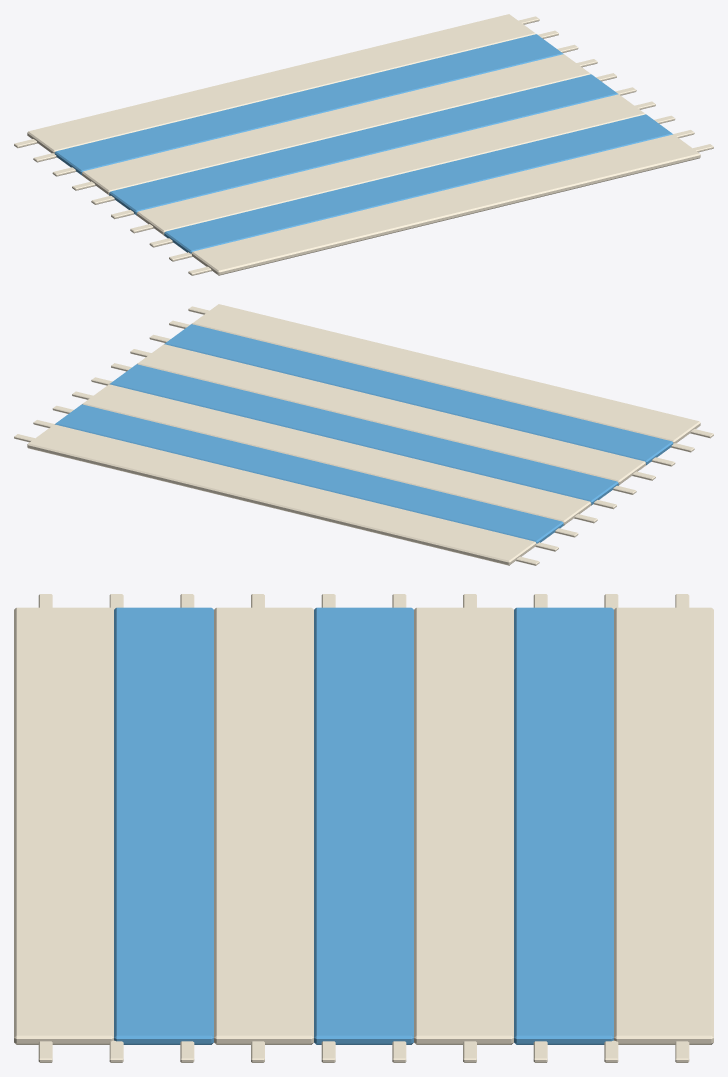
The model's file is striped_rug.glb.
3 views of the same model, one above another, from view 1: azimuth 30°, elevation 25°; view 2: azimuth 150°, elevation 25°; view 3: azimuth 270°, elevation 25° (orthographic). The views are drawn at different scales.
Parts seen in each view (by area): view 1: striped_rug; view 2: striped_rug; view 3: striped_rug.
Part boxes in pixels (x1,y1,x2,y2): striped_rug: (14,14,713,275); striped_rug: (14,304,713,565); striped_rug: (14,594,713,1062).
Bounding box in the file's own units: 1.73 × 0.016 × 1.1.
